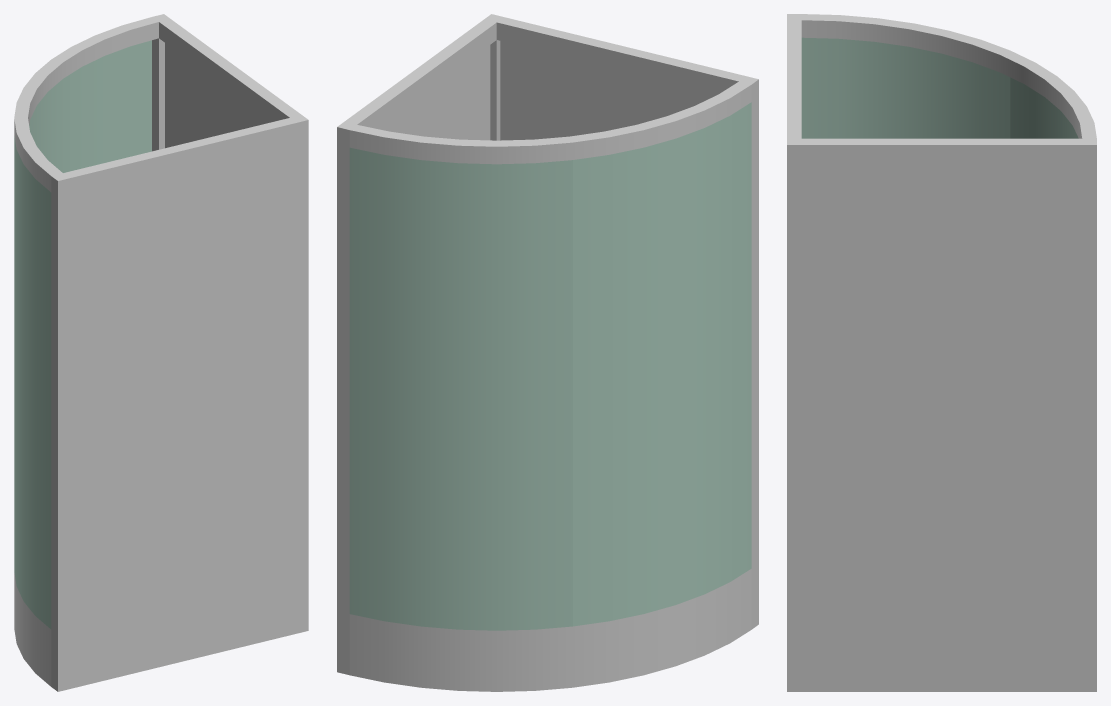
The model's file is showerRound.dae.
3 renders of one model, left to right at view 1: azimuth 30°, elevation 25°; view 2: azimuth 150°, elevation 25°; view 3: azimuth 270°, elevation 25°, orthographic. The views are drawn at different scales.
Parts seen in each view (by area): view 1: showerRound, doorLeft, doorRight; view 2: doorRight, doorLeft, showerRound; view 3: showerRound, doorLeft, doorRight.
Boxes of the visible parts, <box> form: showerRound: <box>14,14,308,691</box>; doorLeft: <box>14,136,51,629</box>; doorRight: <box>29,40,151,172</box>; doorRight: <box>349,147,572,630</box>; doorLeft: <box>573,102,751,626</box>; showerRound: <box>337,14,758,691</box>; showerRound: <box>787,14,1096,691</box>; doorLeft: <box>801,37,1010,138</box>; doorRight: <box>1010,77,1078,138</box>.
Size of the model in its own units: 0.5618 by 1.09 by 0.5618.
